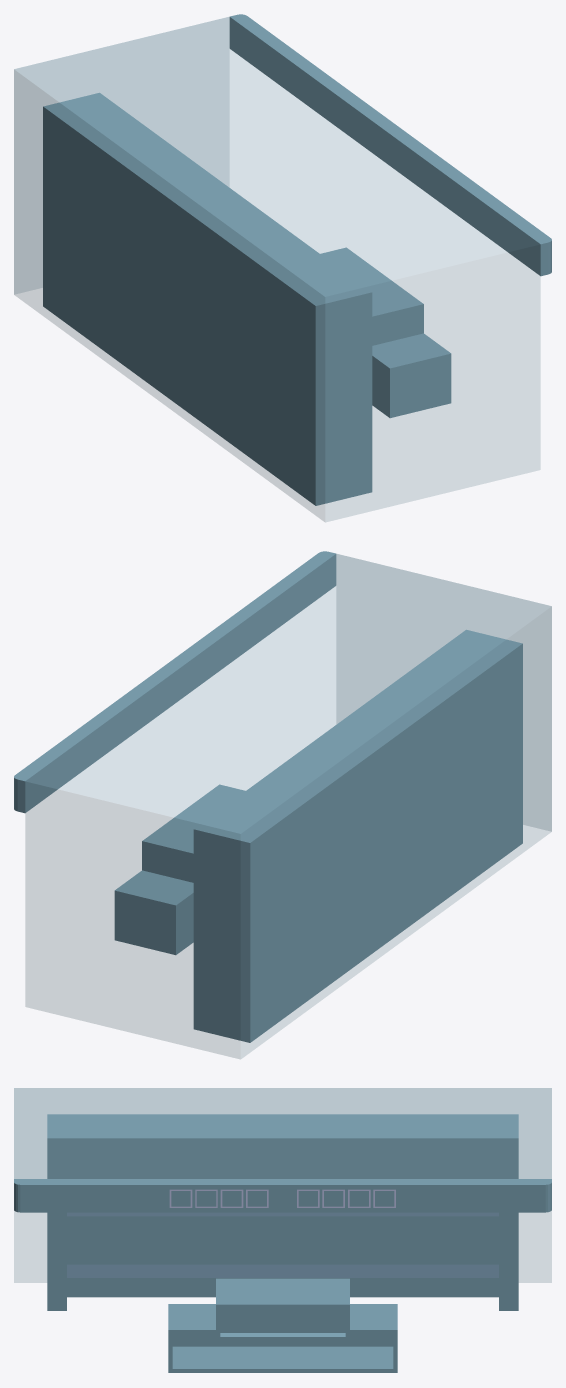
The model's file is shop.glb.
3 renders of one model, top to bottom at view 1: azimuth 30°, elevation 25°; view 2: azimuth 150°, elevation 25°; view 3: azimuth 270°, elevation 25°, orthographic. The views are drawn at different scales.
Parts seen in each view (by area): view 1: Cube.002, Cube.005, Cube.003, Cube.004; view 2: Cube.002, Cube.005, Cube.003, Cube.004; view 3: Cube.005, Cube.002, Cube.004, Cube.003, Cube.006, Text.
Part boxes in pixels (bbox=[...]): Cube.002: bbox=[14, 17, 540, 521]; Cube.005: bbox=[43, 92, 372, 505]; Cube.003: bbox=[229, 14, 551, 276]; Cube.004: bbox=[320, 247, 451, 418]; Cube.002: bbox=[25, 554, 551, 1058]; Cube.005: bbox=[193, 629, 522, 1042]; Cube.003: bbox=[14, 551, 336, 813]; Cube.004: bbox=[114, 784, 245, 955]; Cube.005: bbox=[47, 1114, 518, 1310]; Cube.002: bbox=[14, 1088, 551, 1282]; Cube.004: bbox=[168, 1278, 397, 1372]; Cube.003: bbox=[14, 1179, 551, 1212]; Cube.006: bbox=[67, 1213, 498, 1277]; Text: bbox=[170, 1190, 395, 1207].
Size of the model in its own units: 84.53 by 81.4 by 198.
